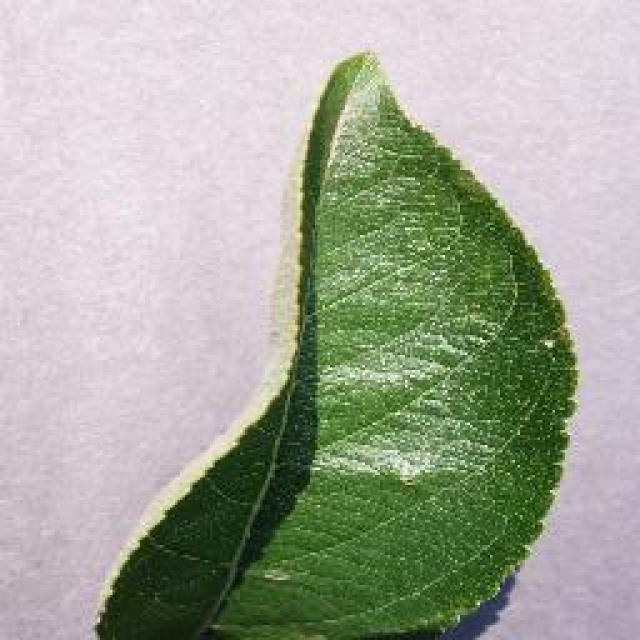apple healthy: (88, 48, 580, 638)
